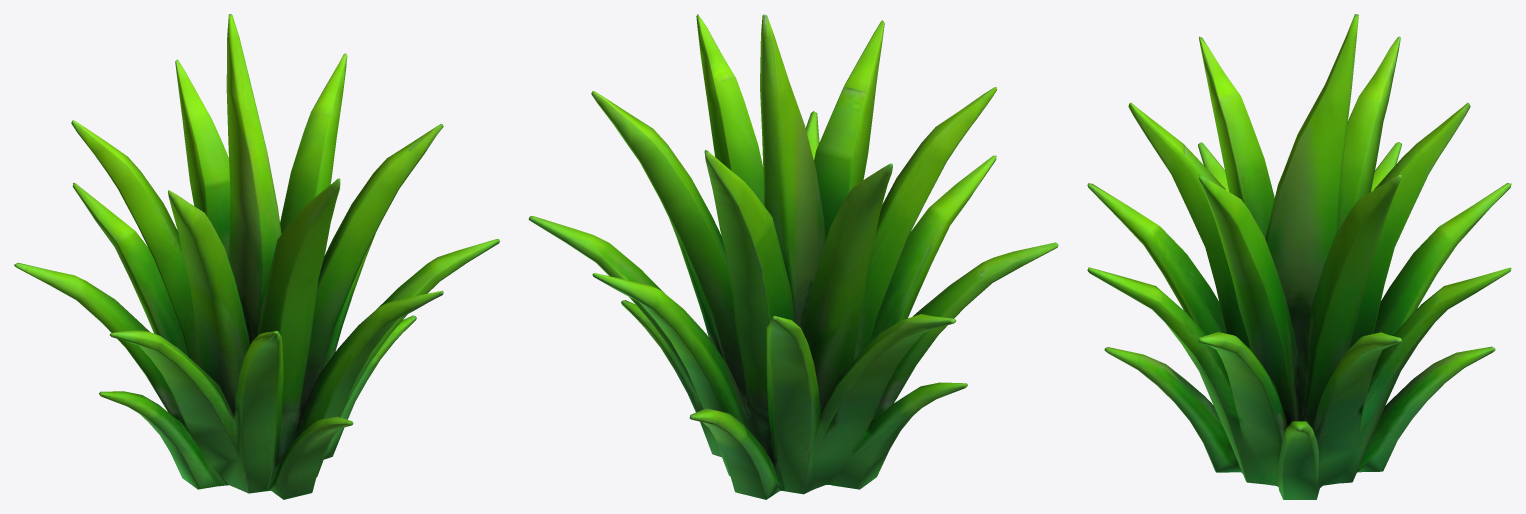
The picture shows the model from 3 angles, left to right: view 1: azimuth 30°, elevation 25°; view 2: azimuth 150°, elevation 25°; view 3: azimuth 270°, elevation 25°; orthographic projection. The views are drawn at different scales.
Size of the model in its own units: 1.89 by 2 by 1.7.
Materials: 1 (1 with a texture image).
